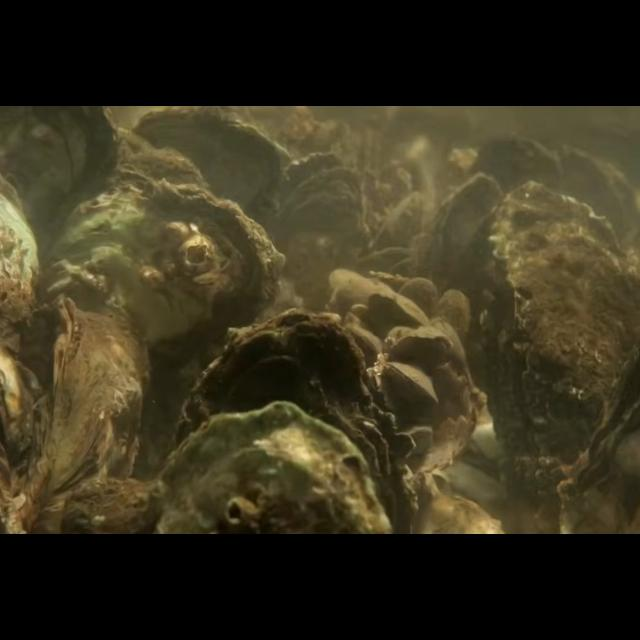Oyster-Closed: (53, 178, 287, 454), (175, 308, 415, 534), (479, 182, 639, 478), (154, 402, 392, 534), (384, 361, 438, 403), (390, 334, 454, 366)
Oyster-Indeterminate: (30, 294, 150, 534), (422, 172, 506, 326), (368, 290, 432, 326), (398, 277, 438, 325), (438, 290, 470, 340)
Oyster-Open: (267, 151, 363, 293)
